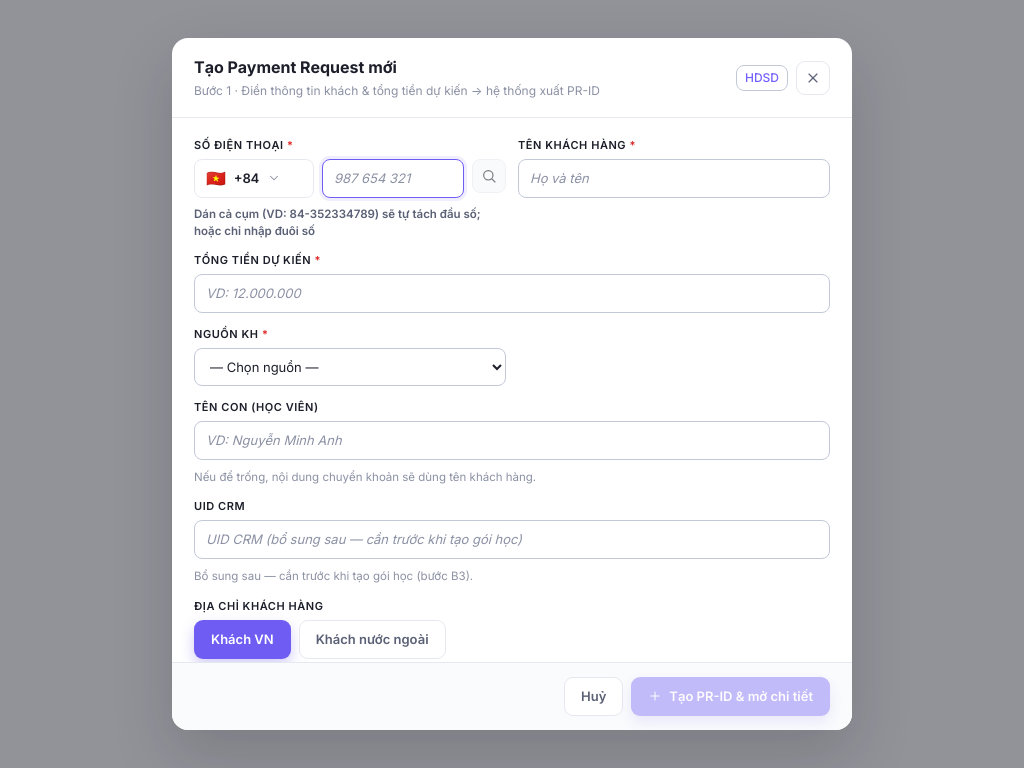
it: CreatePaymentRequestModal — UID optional › button shows Đang tạo... while submitting
Type "0912345678" into the field with placeholder "987 654 321".
click(393, 178); type("0912345678")  # box [322,159,464,198]
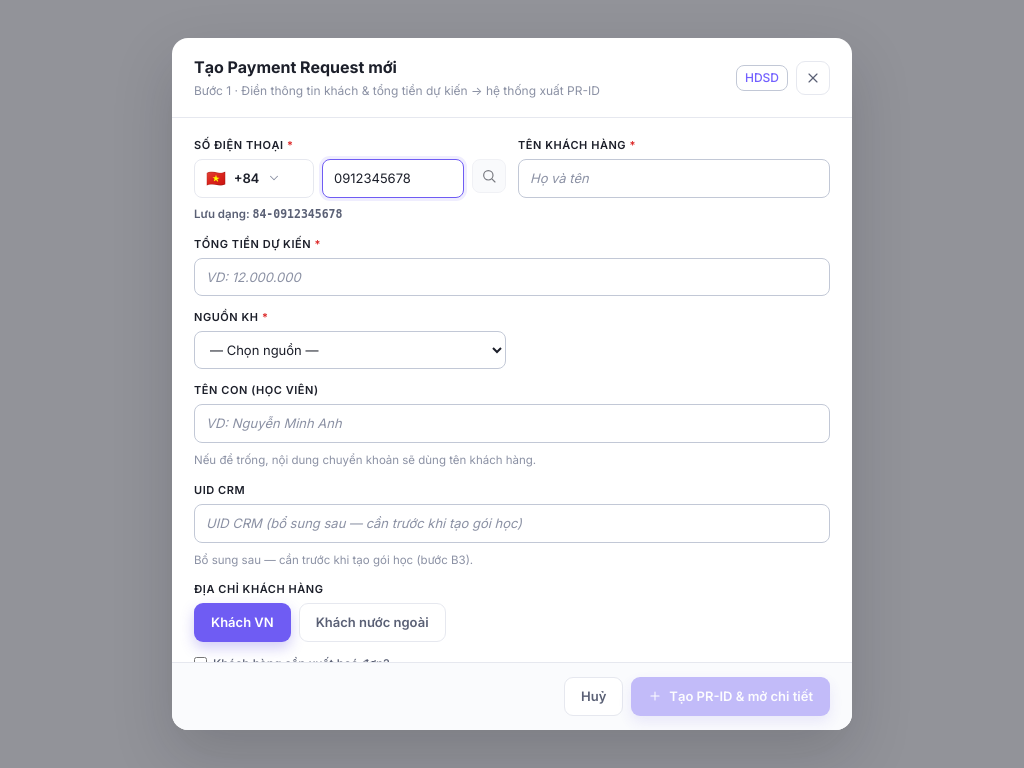
Type "Nguyễn Văn A" into the field with placeholder "Họ và tên".
click(674, 178); type("Nguyễn Văn A")  # box [518,159,830,198]
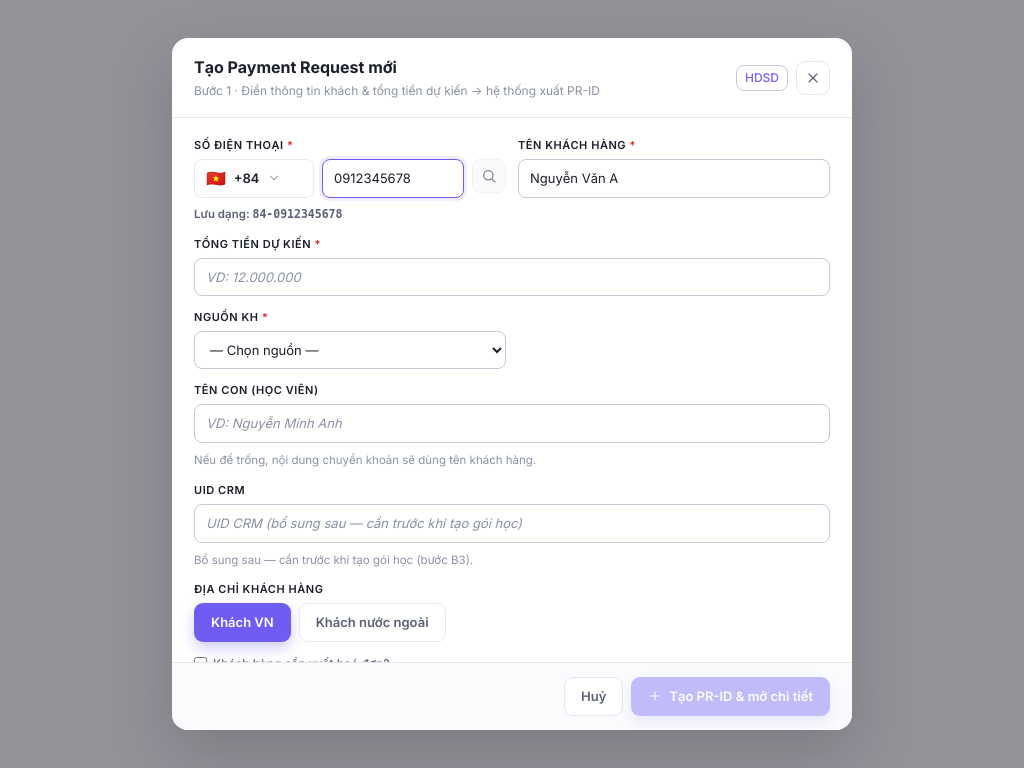
Type "10000000" into the field with placeholder "VD: 12.000.000".
click(512, 277); type("10000000")  # box [194,258,830,296]
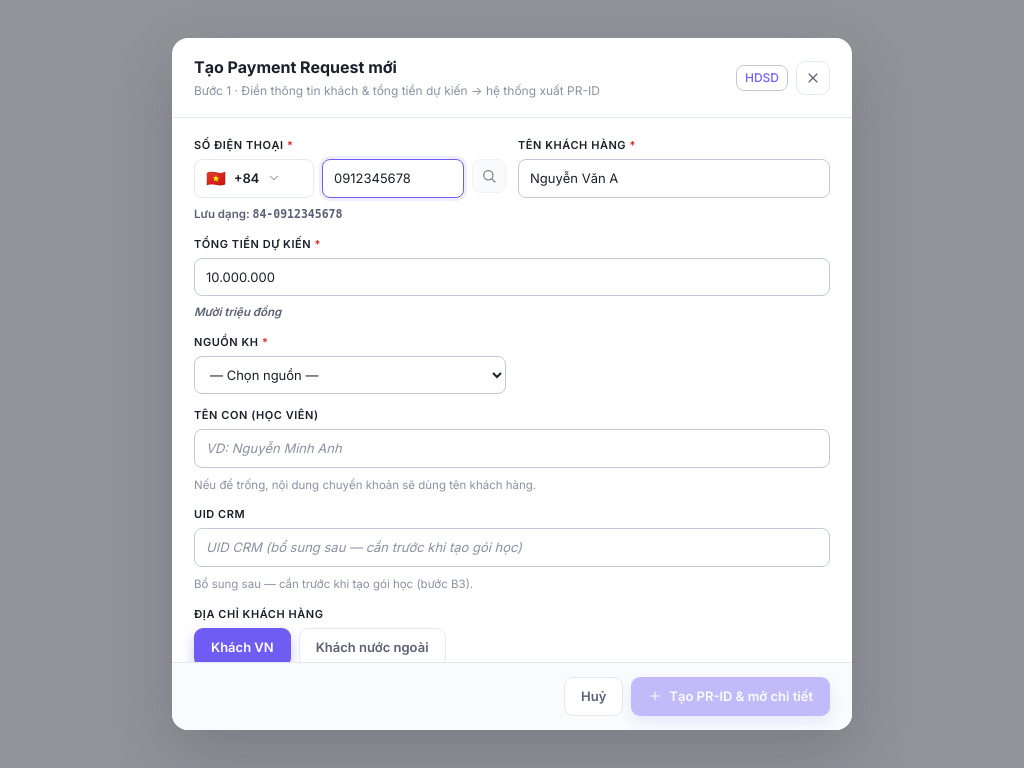
Select "Gia hạn" in the dropdown at (350, 375), box [194,356,506,394]
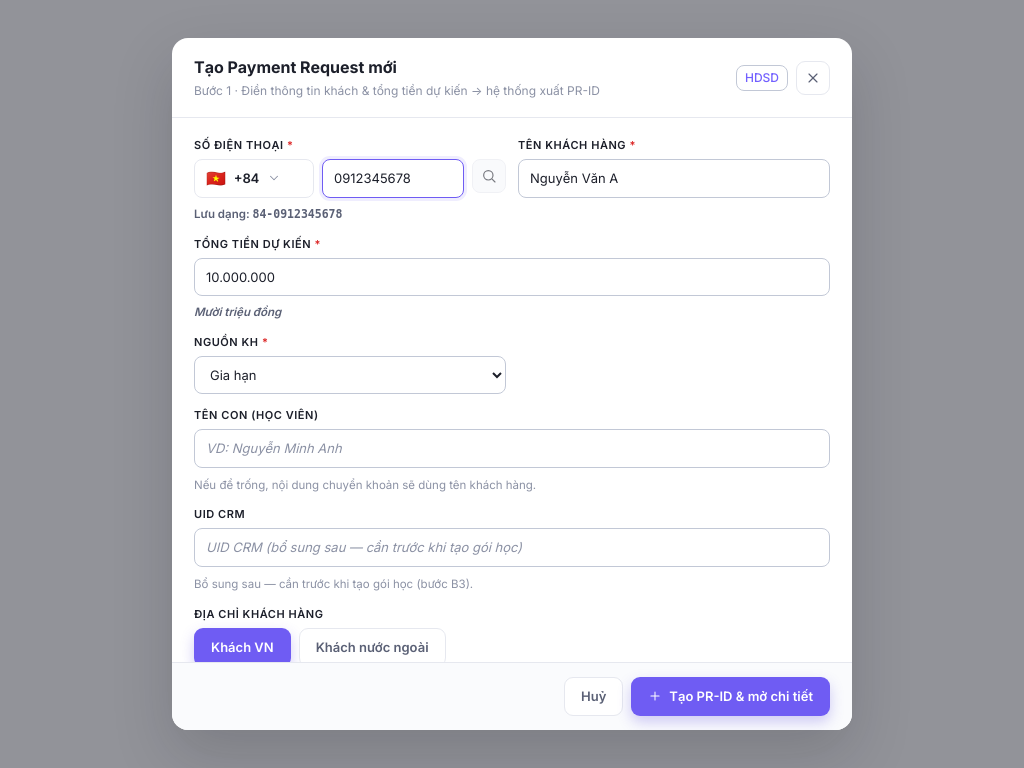
Click the button "Tạo PR-ID & mở chi tiết".
click(731, 696)  # box [631,677,830,716]
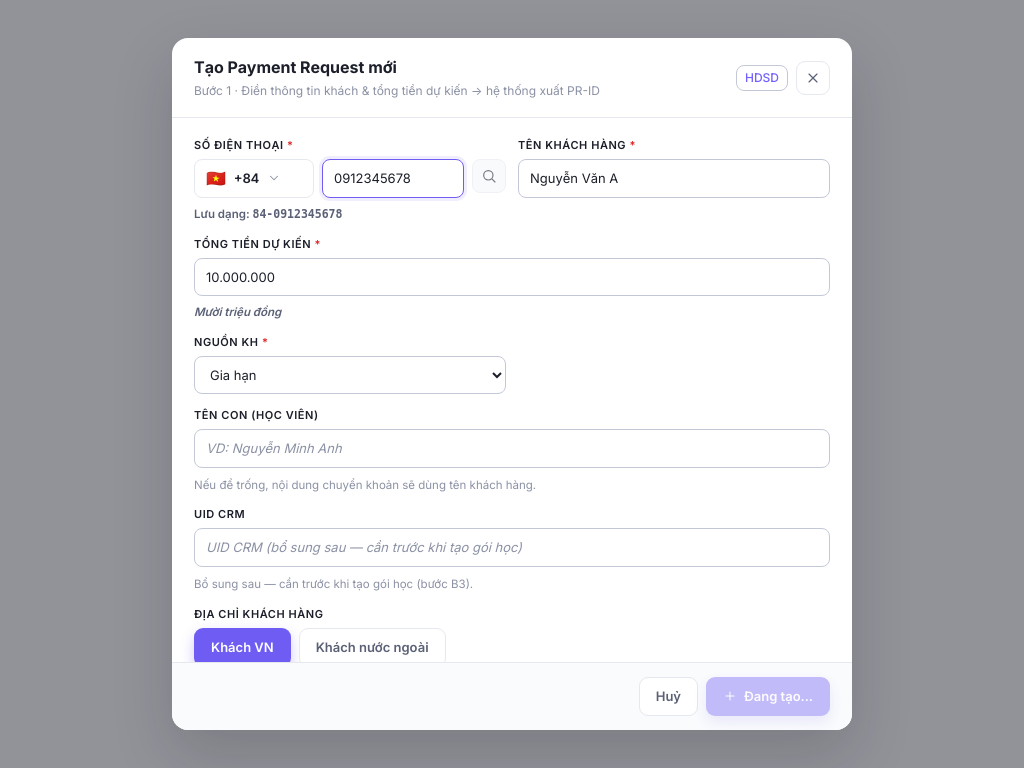
Now the button "Đang tạo..." is shown, box [706,677,830,716]
